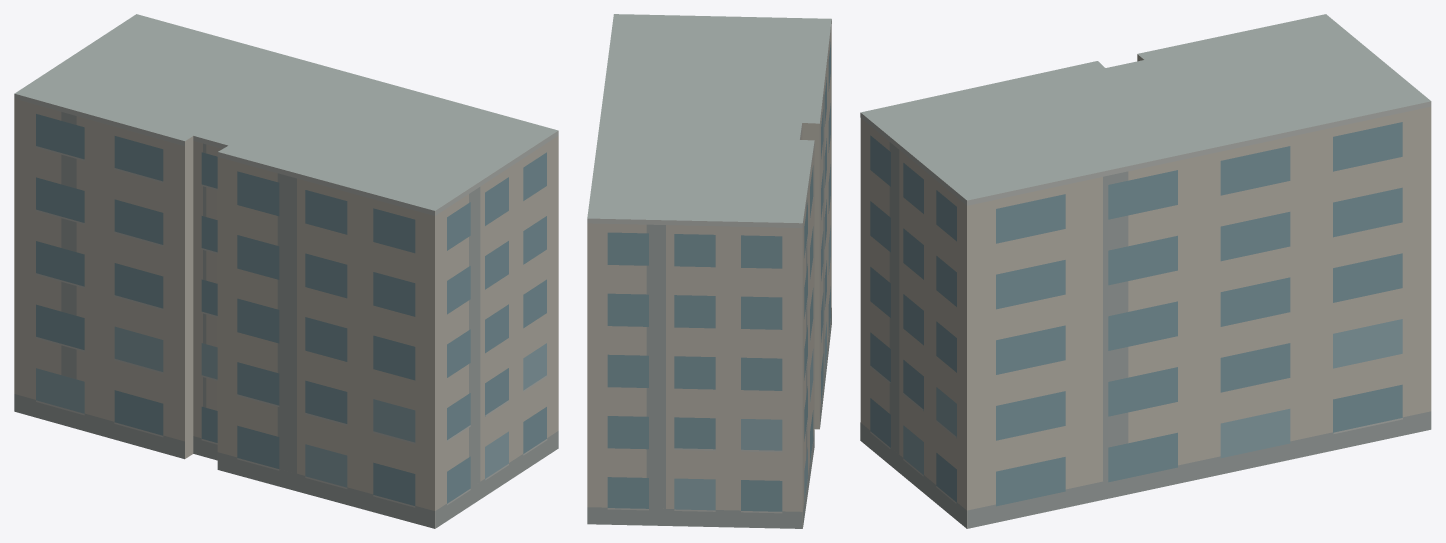
File: survey-upis-32730951.glb
The picture shows the model from 3 angles, left to right: view 1: azimuth 30°, elevation 25°; view 2: azimuth 150°, elevation 25°; view 3: azimuth 270°, elevation 25°; orthographic projection. The views are drawn at different scales.
Visible parts, largest first — view 1: survey-upis-32730951.tmp; view 2: survey-upis-32730951.tmp; view 3: survey-upis-32730951.tmp.
Part boxes in pixels (left/top/right/bottom): survey-upis-32730951.tmp: left=14, top=14, right=558, bottom=528; survey-upis-32730951.tmp: left=587, top=14, right=831, bottom=528; survey-upis-32730951.tmp: left=860, top=14, right=1431, bottom=528.
Size of the model in its own units: 18.72 by 15.35 by 24.2.
